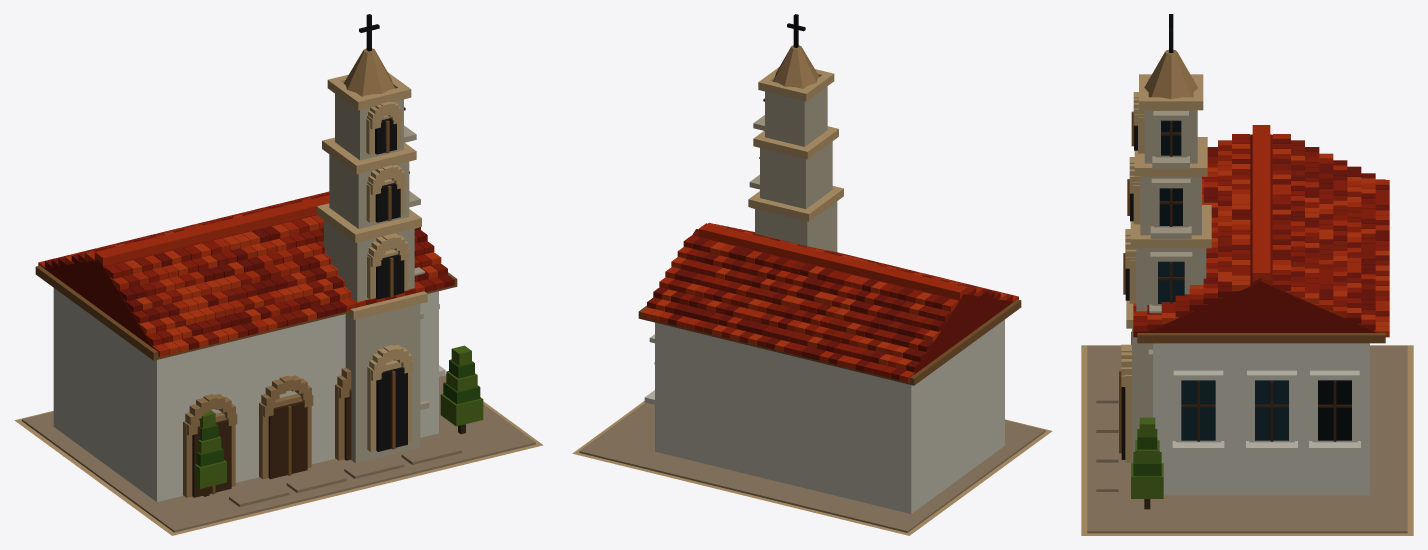
File: SM_Mapa_039.fbx
3 views of the same model, side by side, from view 1: azimuth 30°, elevation 25°; view 2: azimuth 150°, elevation 25°; view 3: azimuth 270°, elevation 25° (orthographic). The views are drawn at different scales.
Parts seen in each view (by area): view 1: SM_Mapa_039; view 2: SM_Mapa_039; view 3: SM_Mapa_039.
Boxes of the visible parts, x1,y1,x2,y2 form: SM_Mapa_039: [14, 14, 543, 535]; SM_Mapa_039: [572, 14, 1052, 535]; SM_Mapa_039: [1081, 14, 1413, 535].
Size of the model in its own units: 45 by 33.14 by 49.89.
